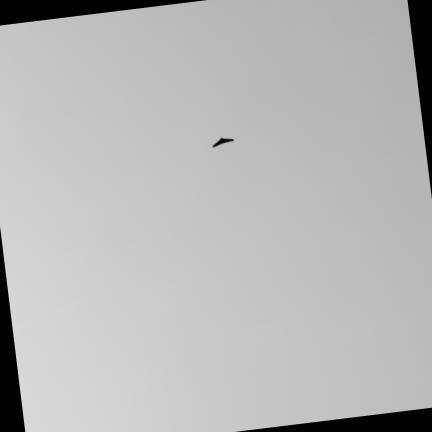Shahed: (212, 137, 232, 146)
